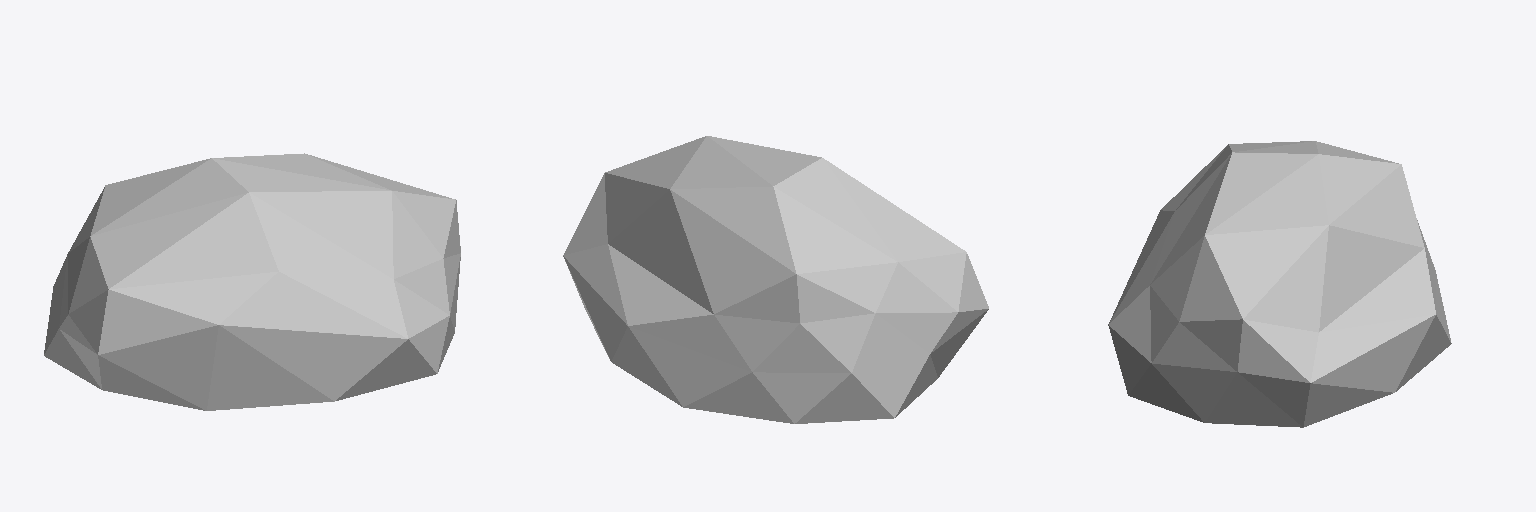
File: rock1.obj
The picture shows the model from 3 angles: view 1: azimuth 30°, elevation 25°; view 2: azimuth 150°, elevation 25°; view 3: azimuth 270°, elevation 25°; orthographic projection.
Visible parts, largest first — view 1: Icosphere.008; view 2: Icosphere.008; view 3: Icosphere.008.
Part boxes in pixels (x1,y1,x2,y2): Icosphere.008: (44,153,460,410); Icosphere.008: (563,136,988,423); Icosphere.008: (1108,141,1451,427).
Size of the model in its own units: 0.7255 by 0.3281 by 0.5687.